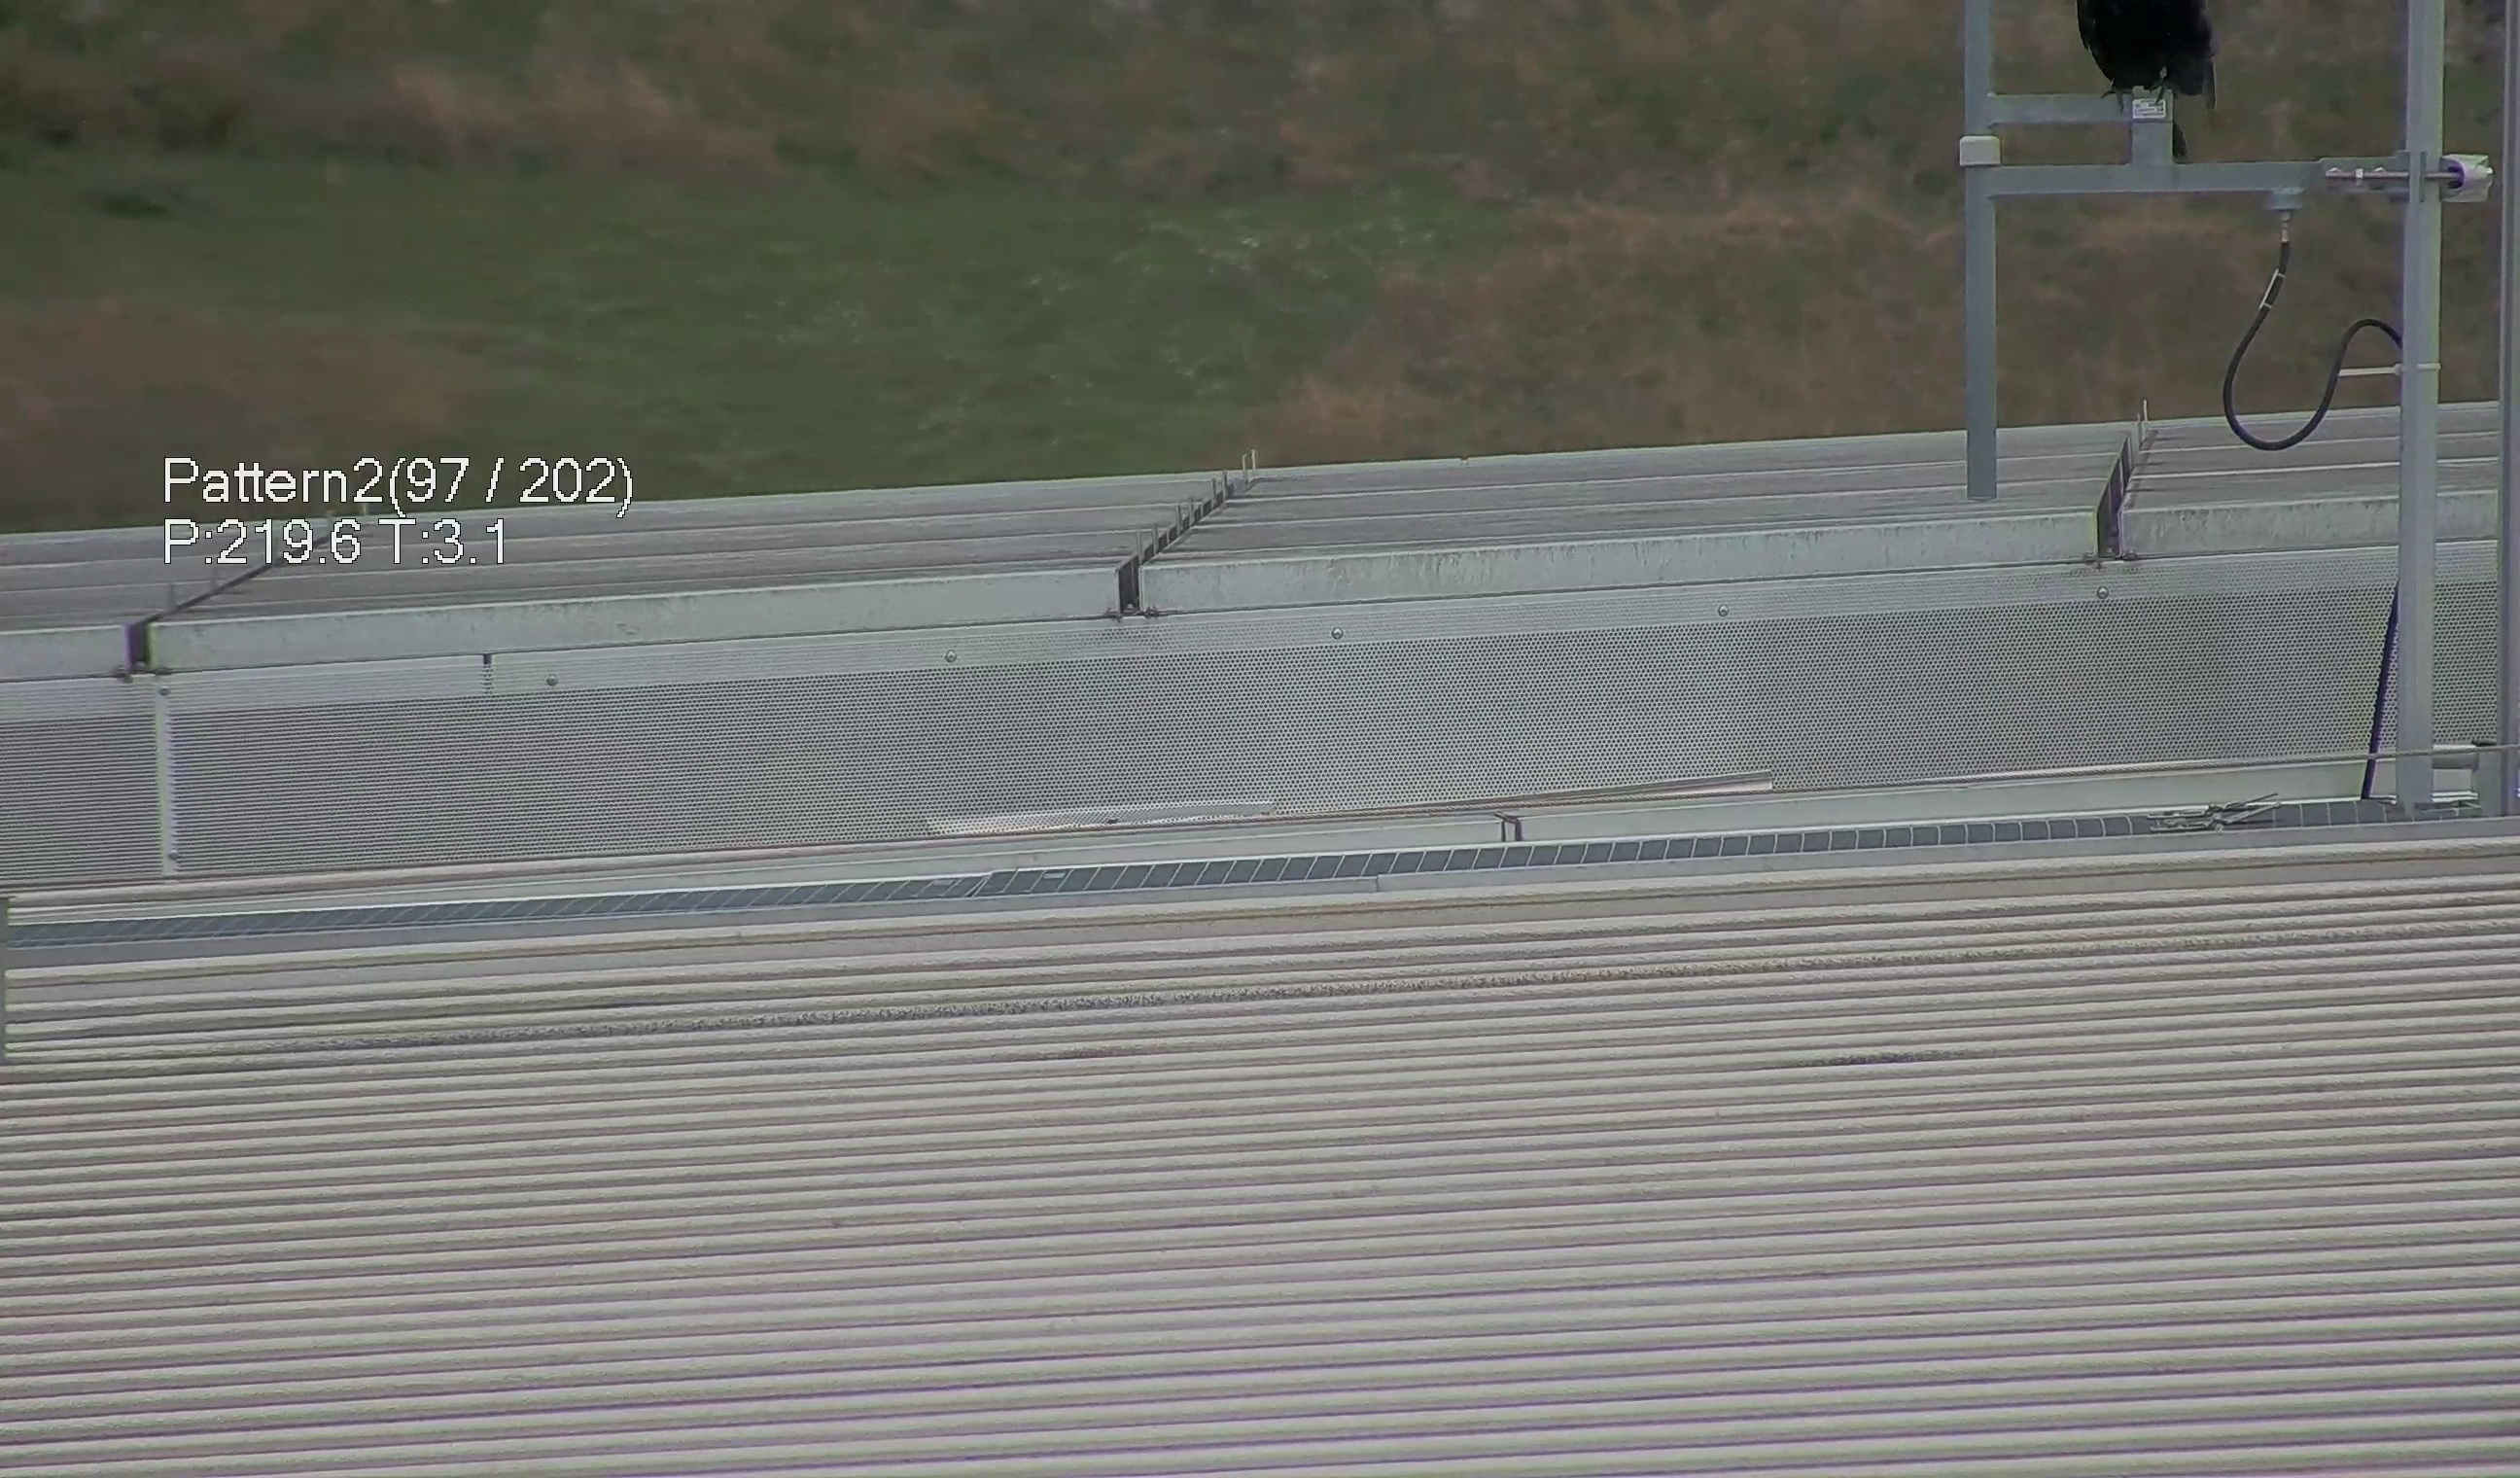Other: (2080, 0, 2249, 151)
